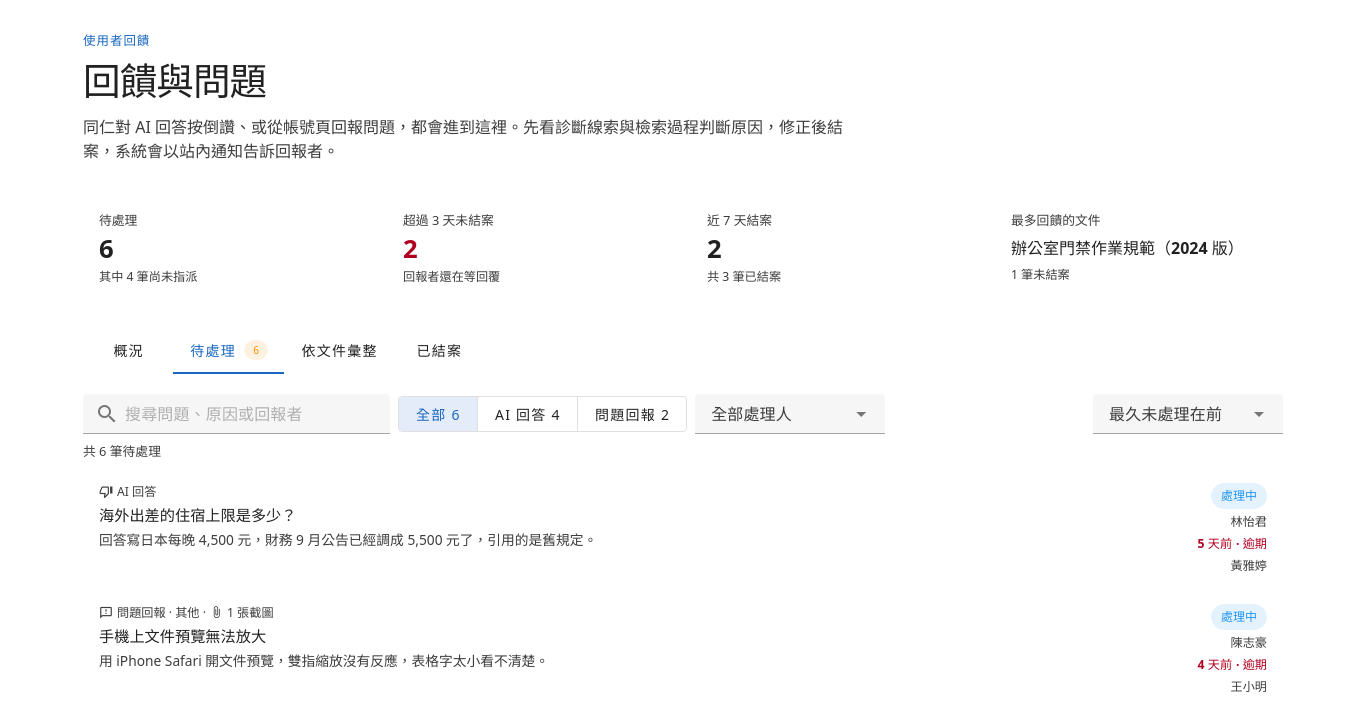
Test: AdminFeedbackView › should show an empty state when no case matches
Step 1. Type "完全不會出現的關鍵字" into the field with placeholder "搜尋問題、原因或回報者" → (248, 414), box [119, 394, 378, 434]
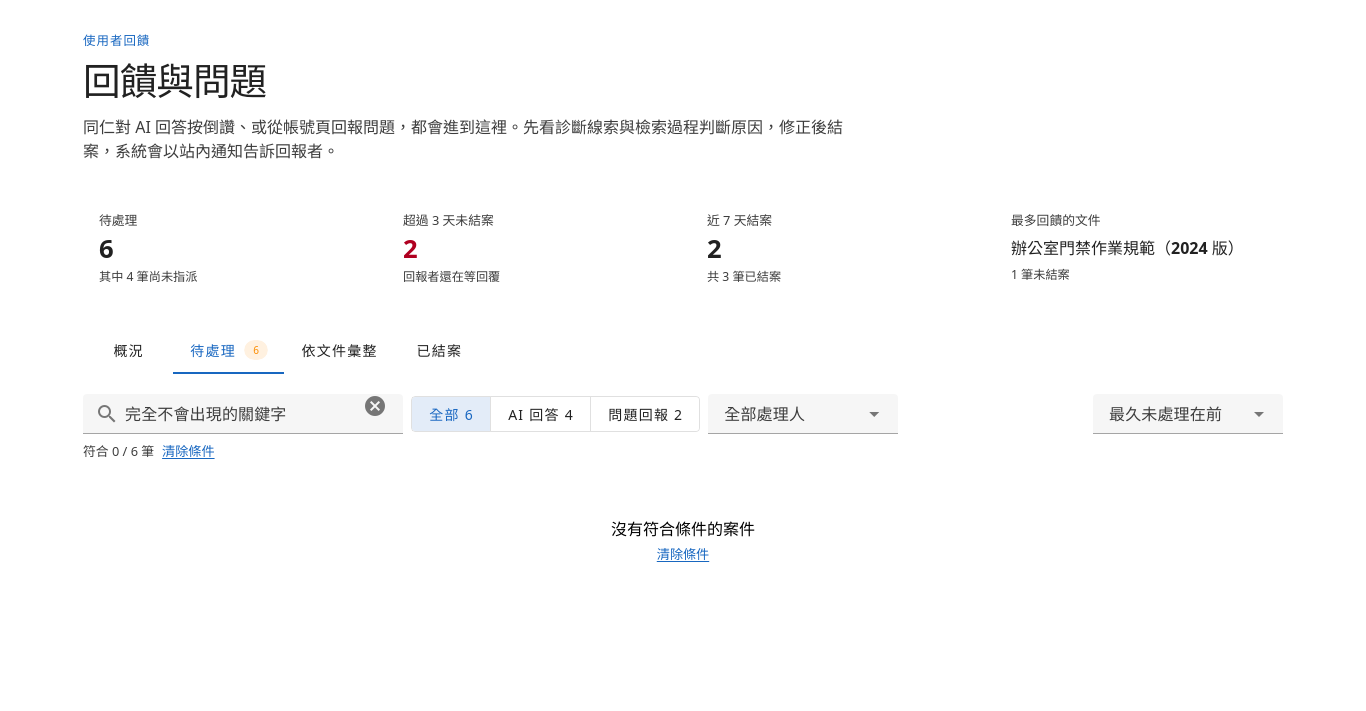
Now the text "沒有符合條件的案件" is shown, box [611, 518, 755, 542]
